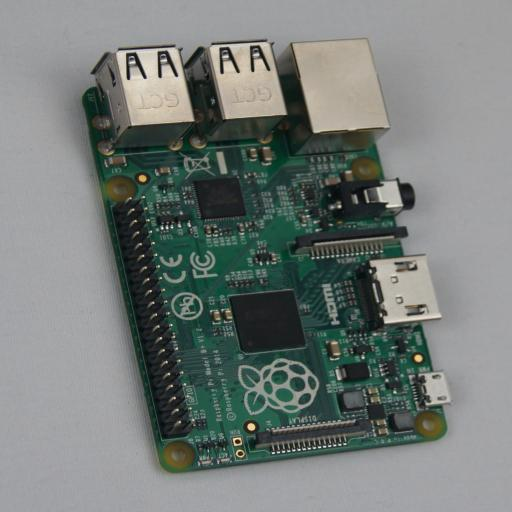Raspberry Pi 1 B-: (77, 39, 447, 473)
